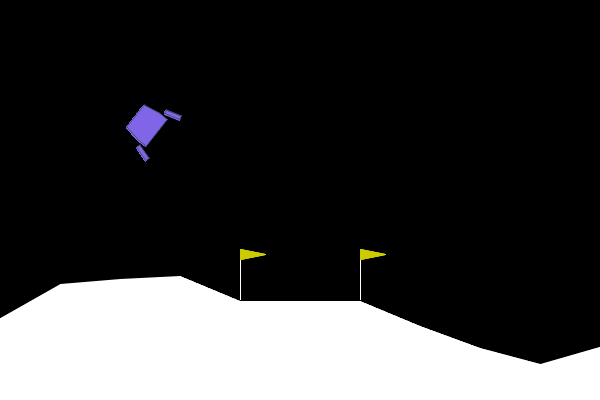lander: (115, 92, 183, 163)
